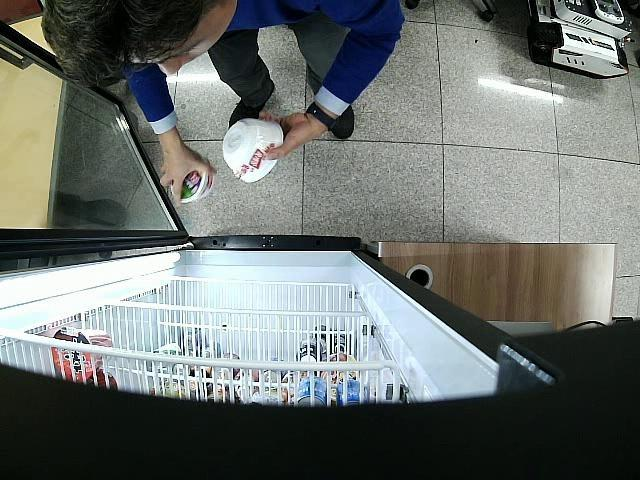09_yukGaeJang: (223, 118, 284, 182), (172, 158, 214, 202)
